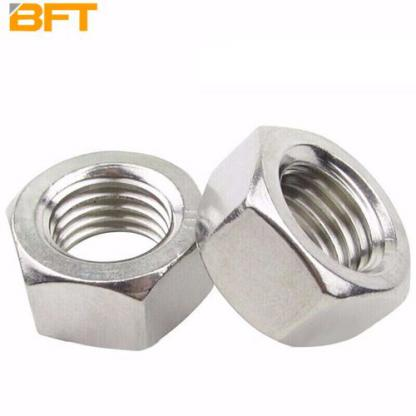FOD: (192, 121, 410, 350), (5, 148, 218, 352)
